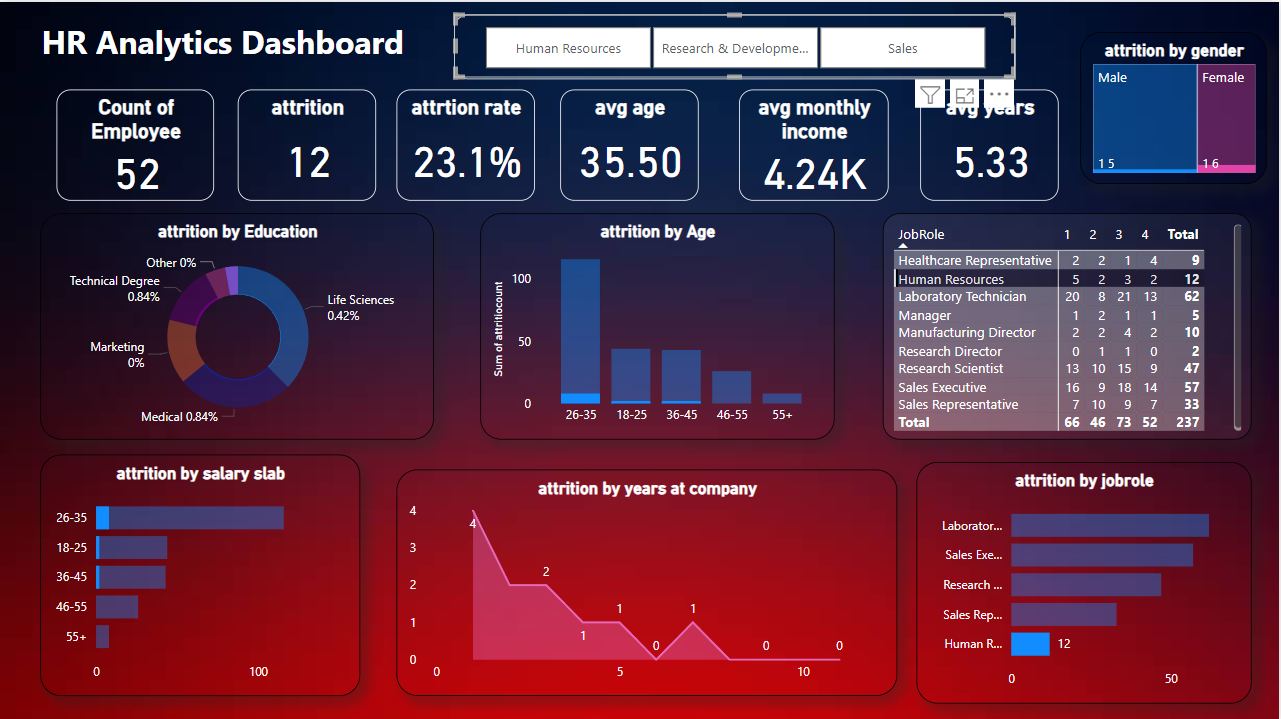

The dashboard page shown, as its layout file describes it:
{"tool":"powerbi","page":{"name":"Page 1","canvas":[1280,720],"ordinal":0},"visuals":[{"type":"card","title":"Count  of Employee","fields":{"Values":["Count(HR_Analytics.EmpID)"]},"box":[57.6,87.8,157.8,111.1],"z":0},{"type":"card","title":"attrition","fields":{"Values":["Sum(HR_Analytics.attritiocount)"]},"box":[238.8,87.8,138.6,111.1],"z":1000},{"type":"card","title":"attrtion rate","fields":{"Values":["HR_Analytics.attritionrate"]},"box":[397.9,87.8,138.6,111.1],"z":2000},{"type":"card","title":"avg age","fields":{"Values":["Avg(HR_Analytics.Age)"]},"box":[561.2,87.8,138.6,111.1],"z":3000},{"type":"card","title":"avg years","fields":{"Values":["Avg(HR_Analytics.YearsAtCompany)"]},"box":[920.8,87.8,138.6,111.1],"z":4000},{"type":"card","title":"avg monthly income","fields":{"Values":["Avg(HR_Analytics.MonthlyIncome)"]},"box":[739.6,87.8,149.6,111.1],"z":5000},{"type":"donutChart","title":"attrition by Education","fields":{"Y":["Sum(HR_Analytics.attritiocount)"],"Category":["HR_Analytics.EducationField"]},"box":[41.2,211.3,393.8,226.4],"z":6000},{"type":"columnChart","title":"attrition by Age","fields":{"Y":["Sum(HR_Analytics.attritiocount)"],"Category":["HR_Analytics.AgeGroup"]},"box":[481.6,211.3,354,226.4],"z":7000},{"type":"pivotTable","fields":{"Rows":["HR_Analytics.JobRole"],"Columns":["HR_Analytics.JobSatisfaction"],"Values":["Sum(HR_Analytics.attritiocount)"]},"box":[883.7,211.3,369.1,226.4],"z":8000},{"type":"barChart","title":"attrition by Age","fields":{"Category":["HR_Analytics.AgeGroup"],"Y":["Sum(HR_Analytics.attritiocount)"]},"box":[41.2,452.8,319.7,241.5],"z":9000},{"type":"barChart","title":"attrition by jobrole","fields":{"Y":["Sum(HR_Analytics.attritiocount)"],"Category":["HR_Analytics.JobRole"]},"box":[918,459.7,334.8,241.5],"z":10000},{"type":"areaChart","title":"attrition by Age","fields":{"Category":["HR_Analytics.YearsAtCompany"],"Y":["Sum(HR_Analytics.attritiocount)"]},"box":[397.9,467.9,500.9,226.4],"z":11000},{"type":"treemap","title":"attrition by Age","fields":{"Values":["Sum(HR_Analytics.attritiocount)"],"Group":["HR_Analytics.Gender"],"Details":["HR_Analytics.attritiocount"]},"box":[1081.3,30.2,186.6,152.3],"z":12000},{"type":"slicer","fields":{"Values":["HR_Analytics.Department"]},"box":[322.5,12.3,694.3,64.5],"z":13000}]}

Visuals, with their boxes in screenshot pixels (x1, y1, x2, y2), scaled from the page's 1280x720 canvas onto the 1281x719 screenshot:
"Count  of Employee" card: box=[58, 88, 216, 199]
"attrition" card: box=[239, 88, 378, 199]
"attrtion rate" card: box=[398, 88, 537, 199]
"avg age" card: box=[562, 88, 700, 199]
"avg years" card: box=[922, 88, 1060, 199]
"avg monthly income" card: box=[740, 88, 890, 199]
"attrition by Education" donutChart: box=[41, 211, 435, 437]
"attrition by Age" columnChart: box=[482, 211, 836, 437]
pivotTable - HR_Analytics.JobRole x HR_Analytics.JobSatisfaction: box=[884, 211, 1254, 437]
"attrition by Age" barChart: box=[41, 452, 361, 693]
"attrition by jobrole" barChart: box=[919, 459, 1254, 700]
"attrition by Age" areaChart: box=[398, 467, 900, 693]
"attrition by Age" treemap: box=[1082, 30, 1269, 182]
slicer - HR_Analytics.Department: box=[323, 12, 1018, 77]
